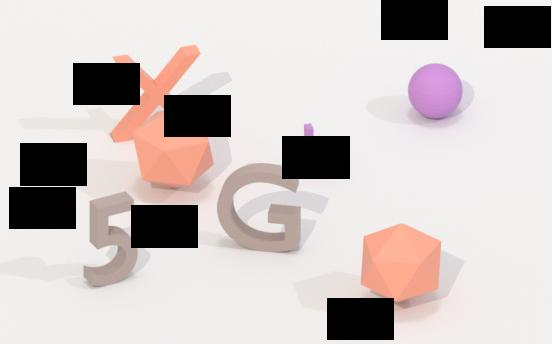5: (81, 190, 140, 289)
G-hoa: (216, 159, 305, 258)
cau: (406, 60, 466, 124)
dagiac: (360, 220, 444, 309), (132, 108, 216, 194)
h: (301, 119, 339, 179)
x: (111, 48, 203, 147)
